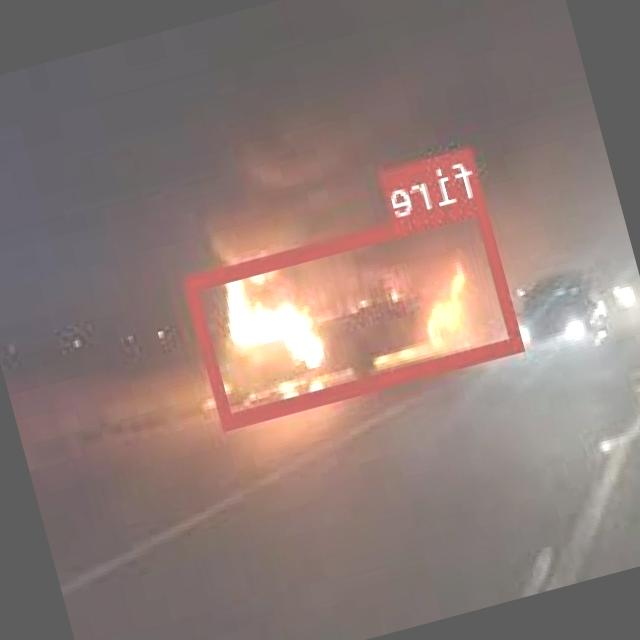fire: (186, 197, 524, 427)
